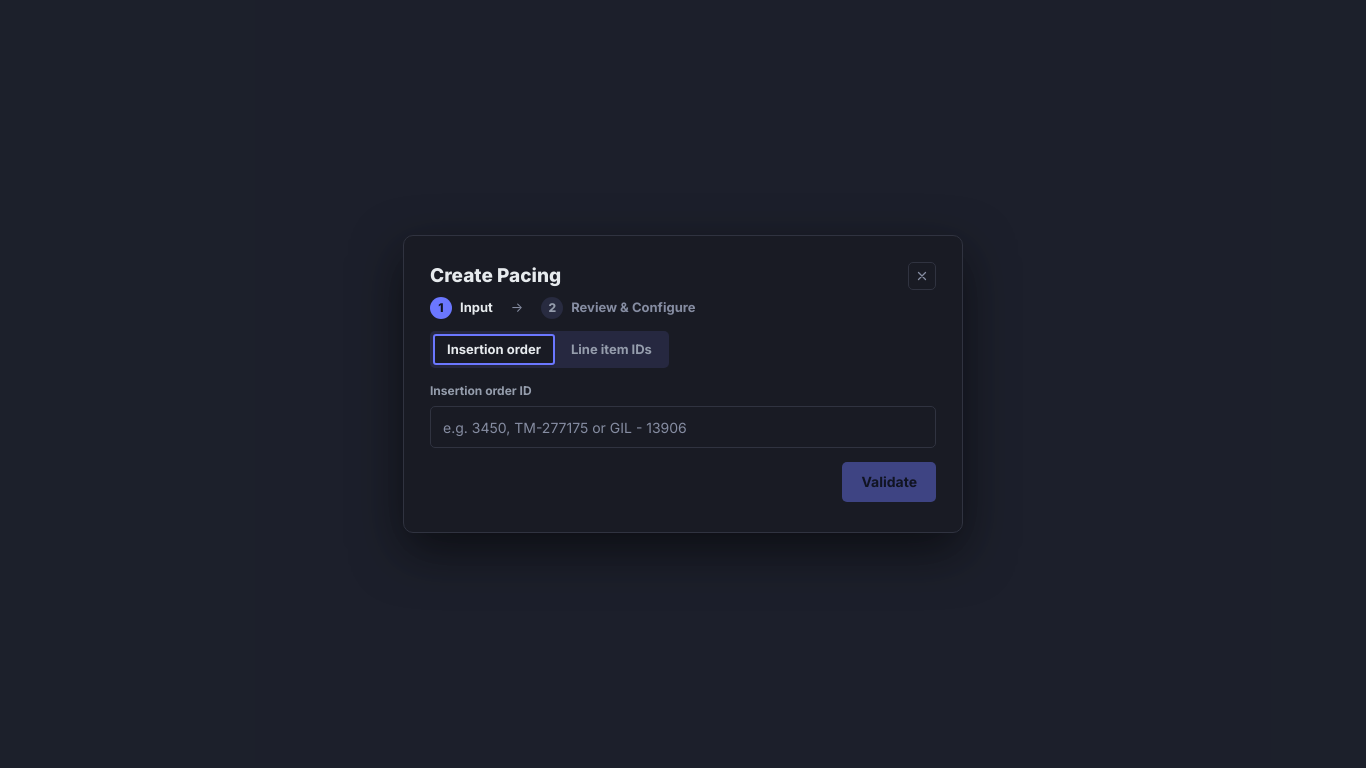
Test case: CreatePacingModal › names what was looked up when the lookup finds nothing
Type "gil-13906" into the field labelled "Insertion order ID" at (683, 427), box [430,406,936,448]
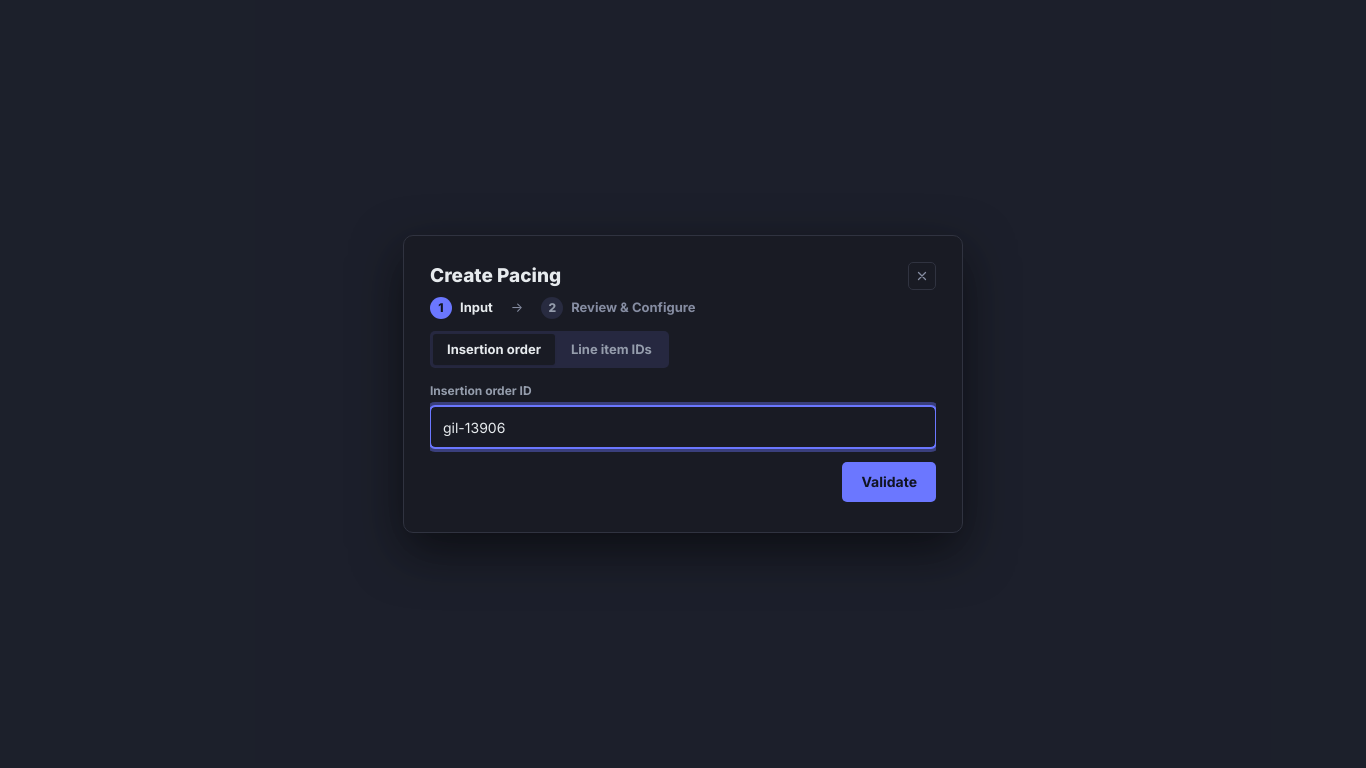
Click the button "Validate" at (889, 482), box [842,462,936,502]
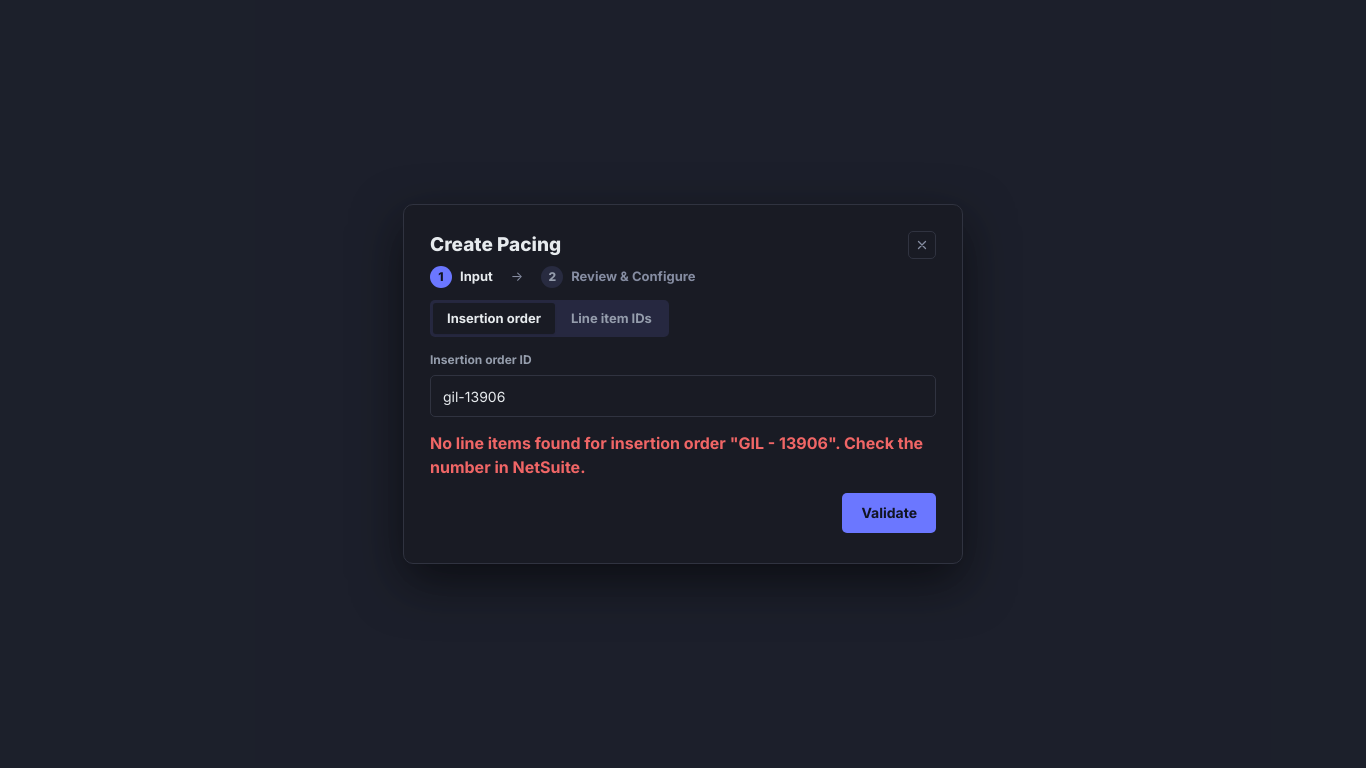
Expected: the text "No line items found for insertion order \"GIL - 13906\". Check the number in NetSuite." is shown, [430,433,923,477]
